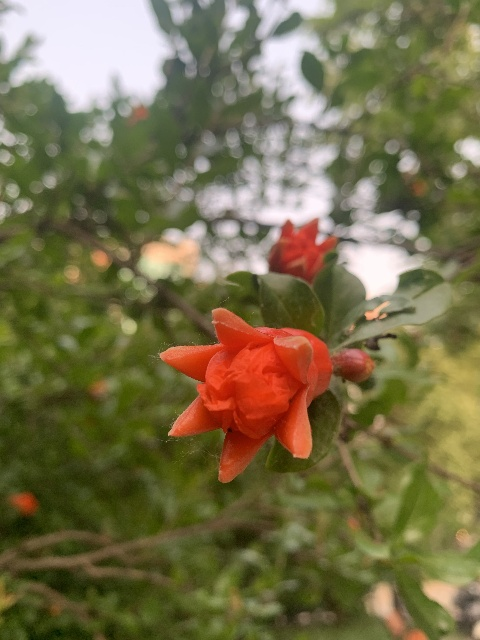bud: (334, 349, 373, 383)
flower: (159, 307, 333, 483), (267, 217, 338, 285)
